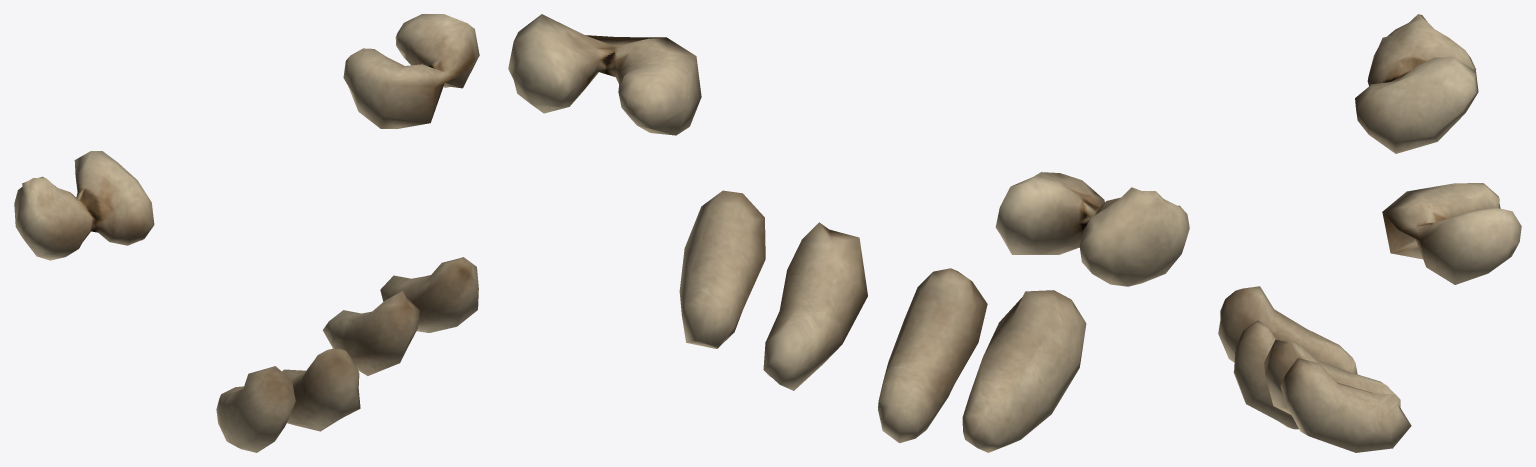
Rendered from Proximal Sesamoid.glb.
3 views of the same model, side by side, from view 1: azimuth 30°, elevation 25°; view 2: azimuth 150°, elevation 25°; view 3: azimuth 270°, elevation 25° (orthographic). The views are drawn at different scales.
Visible parts, largest first — view 1: polySurface72, polySurface67, polySurface69, polySurface68, polySurface70, polySurface71; view 2: polySurface67, polySurface72, polySurface68, polySurface70, polySurface69, polySurface71; view 3: polySurface67, polySurface72, polySurface71, polySurface68, polySurface70, polySurface69.
Part boxes in pixels (bbox=[...]): polySurface72: bbox=[343, 14, 479, 128]; polySurface67: bbox=[14, 151, 154, 260]; polySurface69: bbox=[323, 291, 419, 375]; polySurface68: bbox=[216, 366, 295, 452]; polySurface70: bbox=[282, 347, 360, 431]; polySurface71: bbox=[380, 257, 478, 332]; polySurface67: bbox=[995, 172, 1189, 286]; polySurface72: bbox=[508, 14, 701, 135]; polySurface68: bbox=[962, 290, 1086, 452]; polySurface70: bbox=[878, 268, 987, 443]; polySurface69: bbox=[763, 222, 867, 390]; polySurface71: bbox=[679, 190, 765, 348]; polySurface67: bbox=[1355, 14, 1478, 153]; polySurface72: bbox=[1382, 183, 1521, 284]; polySurface71: bbox=[1280, 358, 1411, 452]; polySurface68: bbox=[1218, 286, 1357, 374]; polySurface70: bbox=[1233, 320, 1298, 429]; polySurface69: bbox=[1264, 339, 1400, 414].
Bounding box in the file's own units: 37.57 × 22.96 × 18.69.
Materials: 1 (1 with a texture image).
